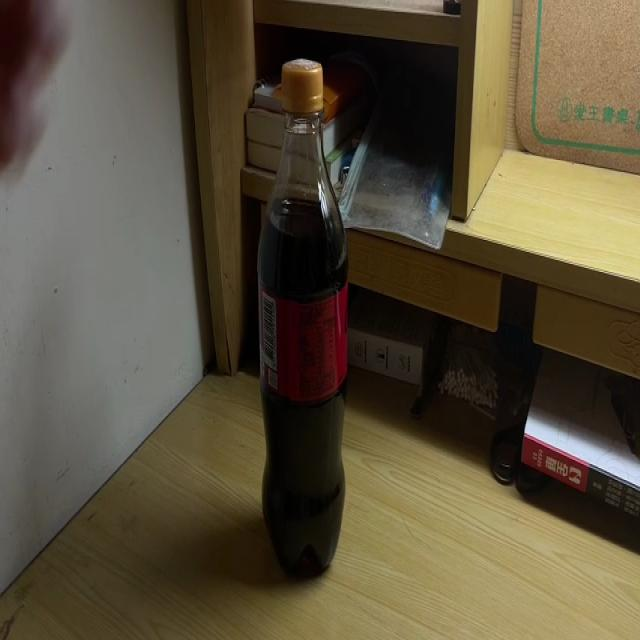Coca-Cola: (256, 58, 349, 582)
